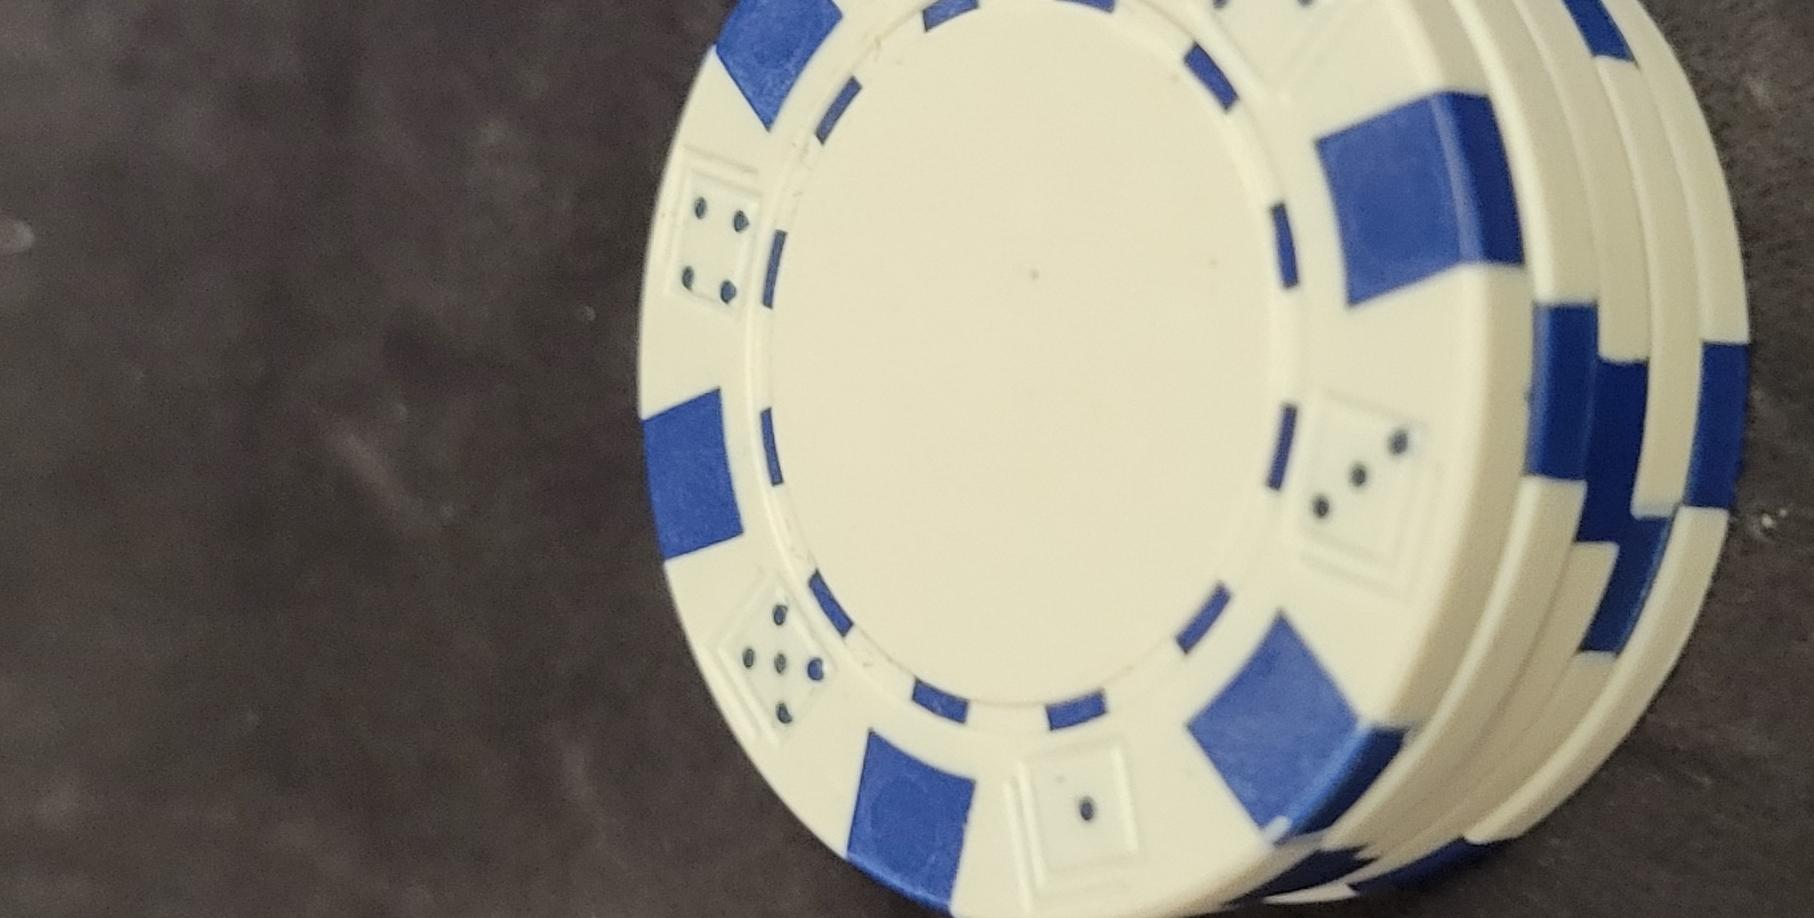Chip: (1, 400, 1105, 918)
